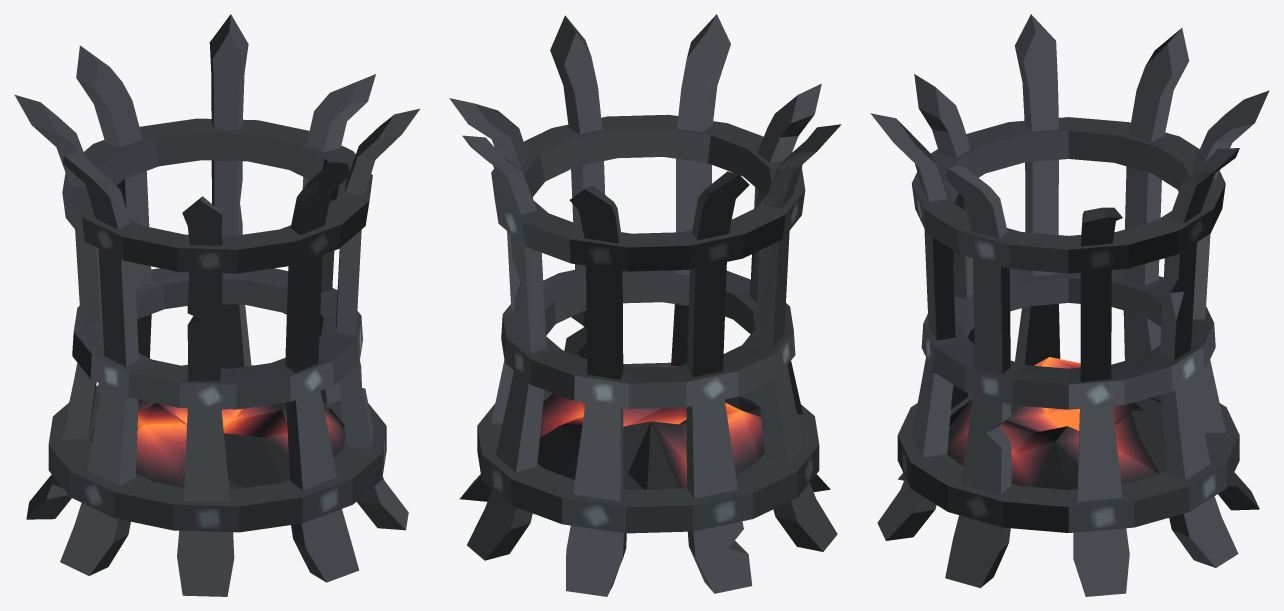
Rendered from crypt_brazier.gltf.
3 views of the same model, side by side, from view 1: azimuth 30°, elevation 25°; view 2: azimuth 150°, elevation 25°; view 3: azimuth 270°, elevation 25° (orthographic).
Parts seen in each view (by area): view 1: crypt_brazier; view 2: crypt_brazier; view 3: crypt_brazier.
Part boxes in pixels (box(x1,y1,x2,y2)): crypt_brazier: box(14, 14, 419, 596); crypt_brazier: box(449, 14, 841, 596); crypt_brazier: box(870, 14, 1269, 596).
Size of the model in its own units: 0.7872 by 0.8955 by 0.775.
1 material, 1 textured.
